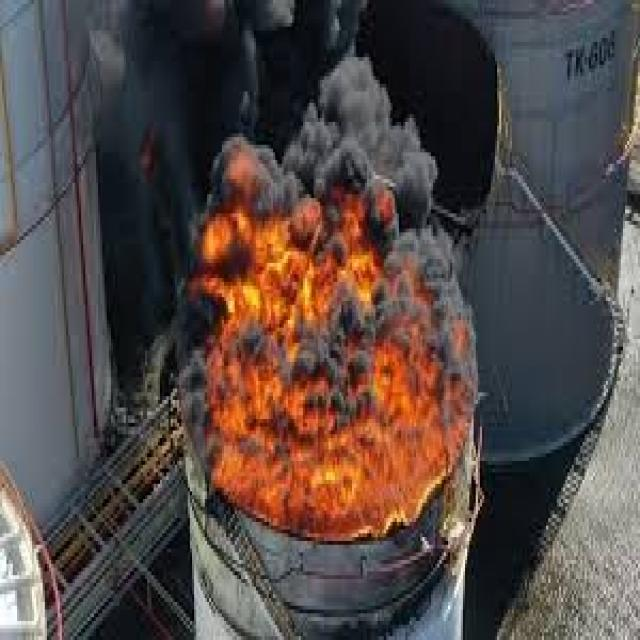explosion: (188, 119, 458, 516)
